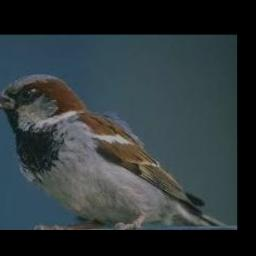Sparrow: (0, 73, 228, 229)
